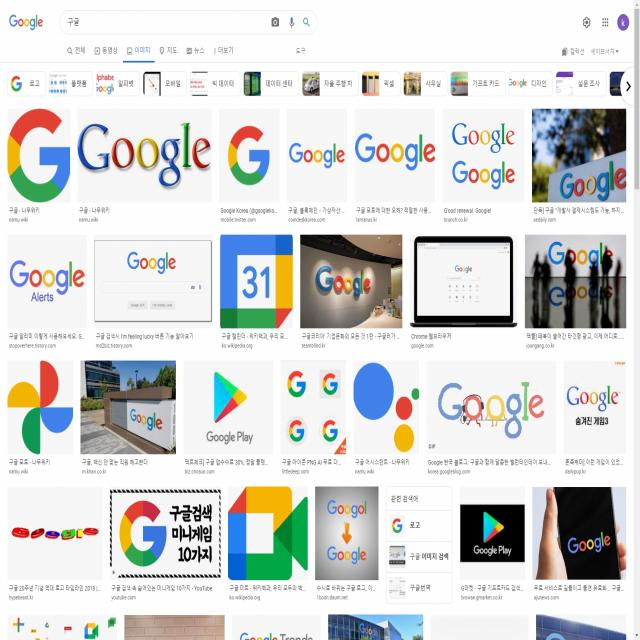menu-bar: (578, 9, 630, 35)
menu-panel: (60, 38, 314, 63)
search: (57, 6, 319, 36)
